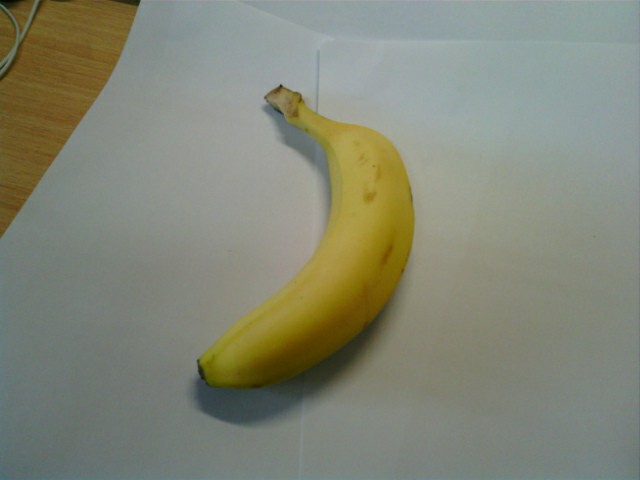fresh_banana: (191, 91, 415, 389)
